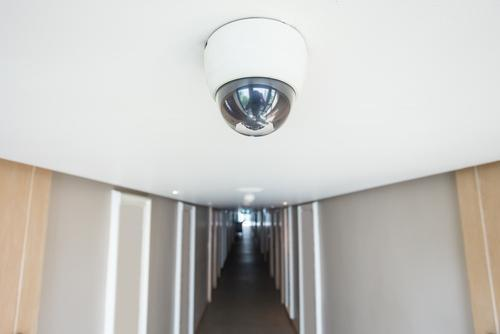CCTV: (200, 16, 312, 139)
